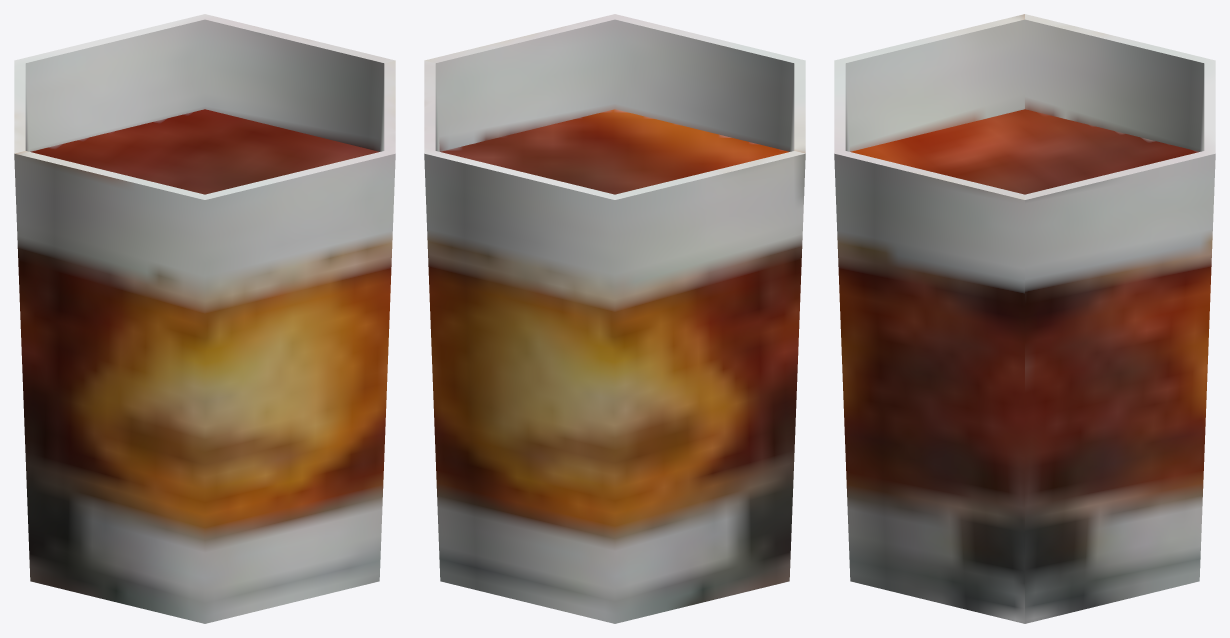
The model's file is DrinkV10.fbx.
3 views of the same model, side by side, from view 1: azimuth 30°, elevation 25°; view 2: azimuth 150°, elevation 25°; view 3: azimuth 270°, elevation 25° (orthographic).
Visible parts, largest first — view 1: Cocktails.004; view 2: Cocktails.004; view 3: Cocktails.004.
Boxes of the visible parts, bbox=[...] form: Cocktails.004: bbox=[14, 14, 395, 623]; Cocktails.004: bbox=[424, 14, 805, 623]; Cocktails.004: bbox=[834, 14, 1215, 623].
Size of the model in its own units: 0.1891 by 0.2044 by 0.1637.
